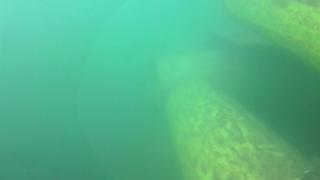pipe: (163, 81, 320, 180), (220, 1, 320, 75), (152, 51, 288, 101)
